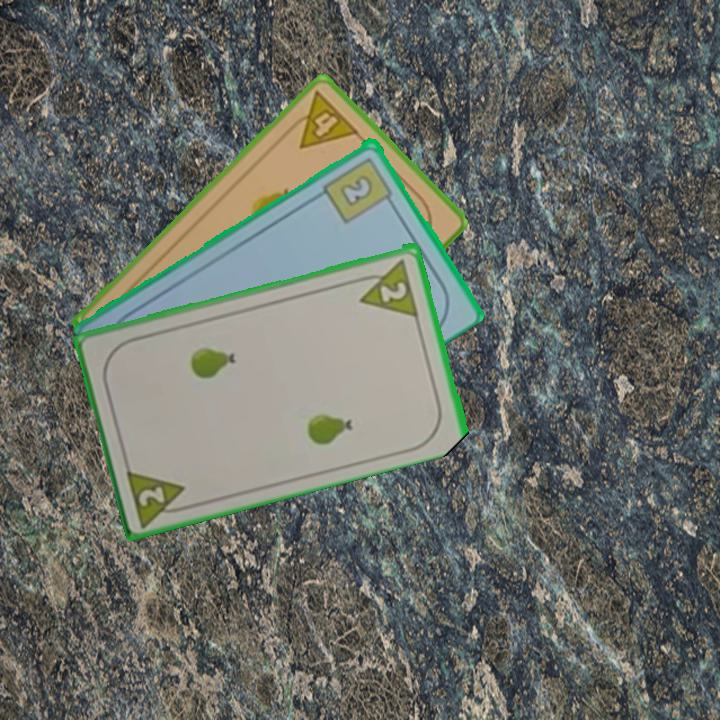2b: (320, 153, 398, 226)
2p: (122, 464, 195, 528), (352, 254, 422, 319)
4p: (281, 86, 362, 152)
